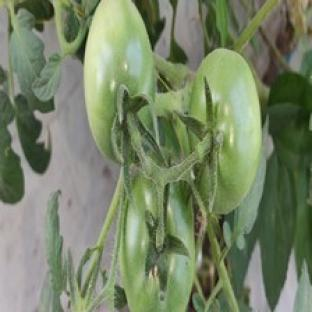Tomato: (190, 49, 261, 214), (120, 177, 194, 311)
